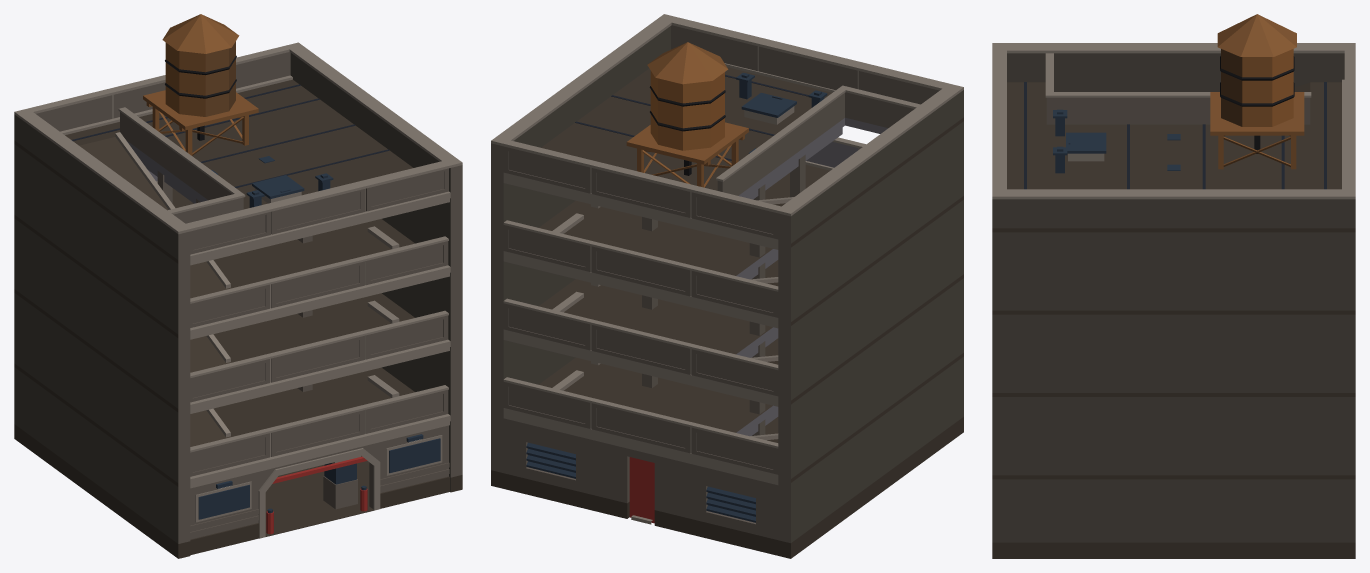
Rendered from parking-garage-6e4f2c.glb.
The picture shows the model from 3 angles, left to right: view 1: azimuth 30°, elevation 25°; view 2: azimuth 150°, elevation 25°; view 3: azimuth 270°, elevation 25°; orthographic projection. The views are drawn at different scales.
Visible parts, largest first — view 1: parking-garage-body, water-tank-timber, roof-hatch-lid; view 2: parking-garage-body, water-tank-timber, roof-hatch-lid; view 3: parking-garage-body, water-tank-timber, roof-hatch-lid.
Part boxes in pixels (left/top/right/bottom): parking-garage-body: left=14, top=42, right=462, bottom=558; water-tank-timber: left=143, top=14, right=258, bottom=155; roof-hatch-lid: left=252, top=175, right=304, bottom=199; parking-garage-body: left=491, top=14, right=963, bottom=558; water-tank-timber: left=626, top=42, right=748, bottom=187; roof-hatch-lid: left=741, top=92, right=796, bottom=117; parking-garage-body: left=992, top=43, right=1355, bottom=558; water-tank-timber: left=1210, top=14, right=1304, bottom=169; roof-hatch-lid: left=1066, top=132, right=1106, bottom=153.
Bounding box in the file's own units: 12 × 17.06 × 12.
